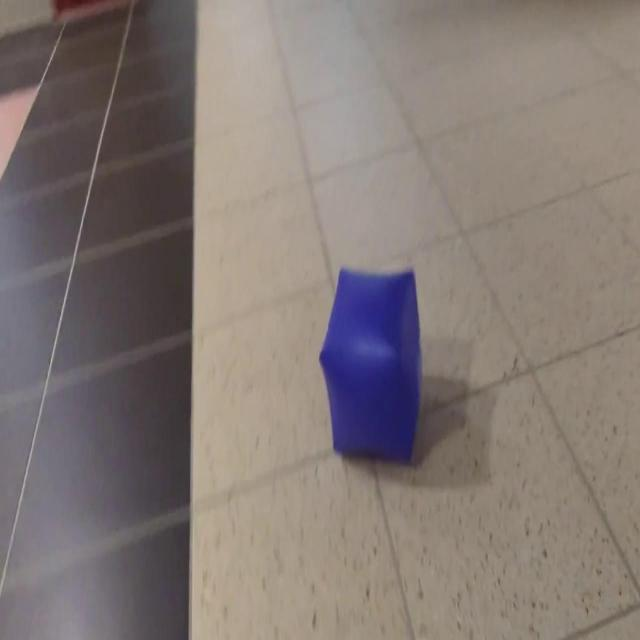frc_cube: (320, 268, 422, 464)
